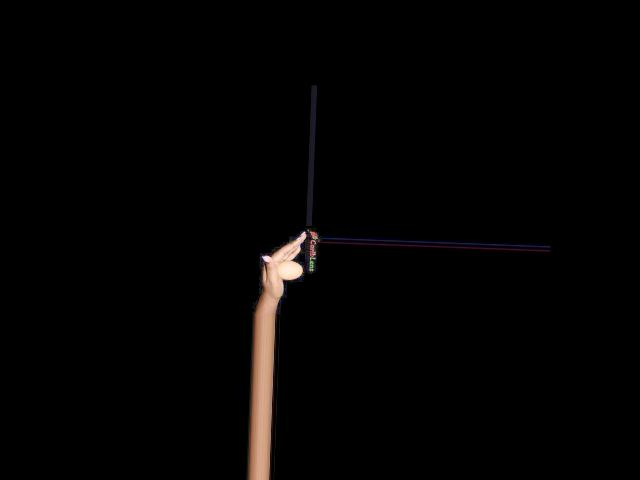egg: (276, 260, 303, 280)
